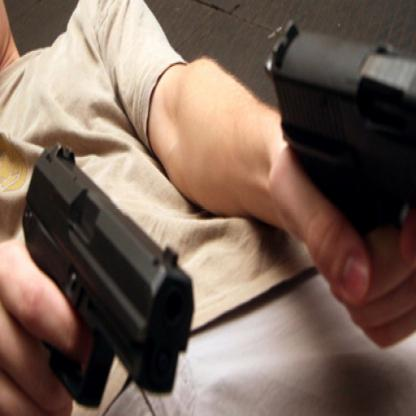gun: (21, 139, 194, 412), (262, 11, 415, 252)
